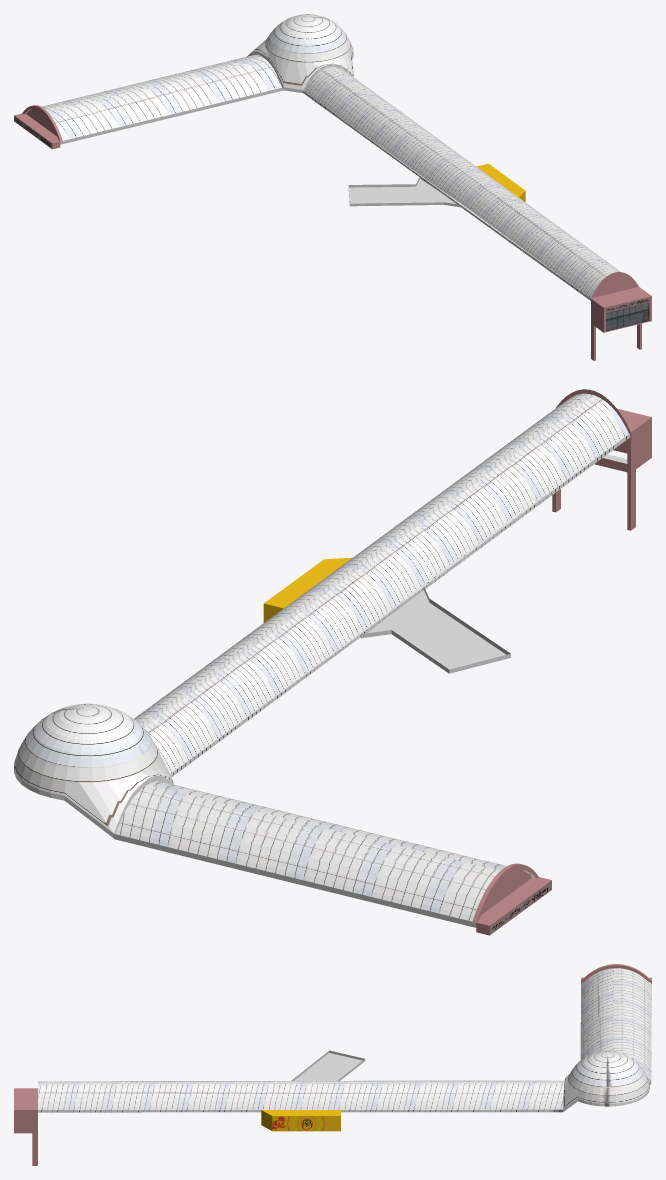
Rendered from yane.fbx.
3 renders of one model, top to bottom at view 1: azimuth 30°, elevation 25°; view 2: azimuth 150°, elevation 25°; view 3: azimuth 270°, elevation 25°, orthographic. The views are drawn at different scales.
Parts seen in each view (by area): view 1: 球.001; view 2: 球.001; view 3: 球.001.
Part boxes in pixels (x1,y1,x2,y2): 球.001: (14, 14, 651, 360); 球.001: (14, 389, 651, 935); 球.001: (14, 964, 651, 1165).
Bounding box in the file's own units: 18445 × 6202 × 35564.
